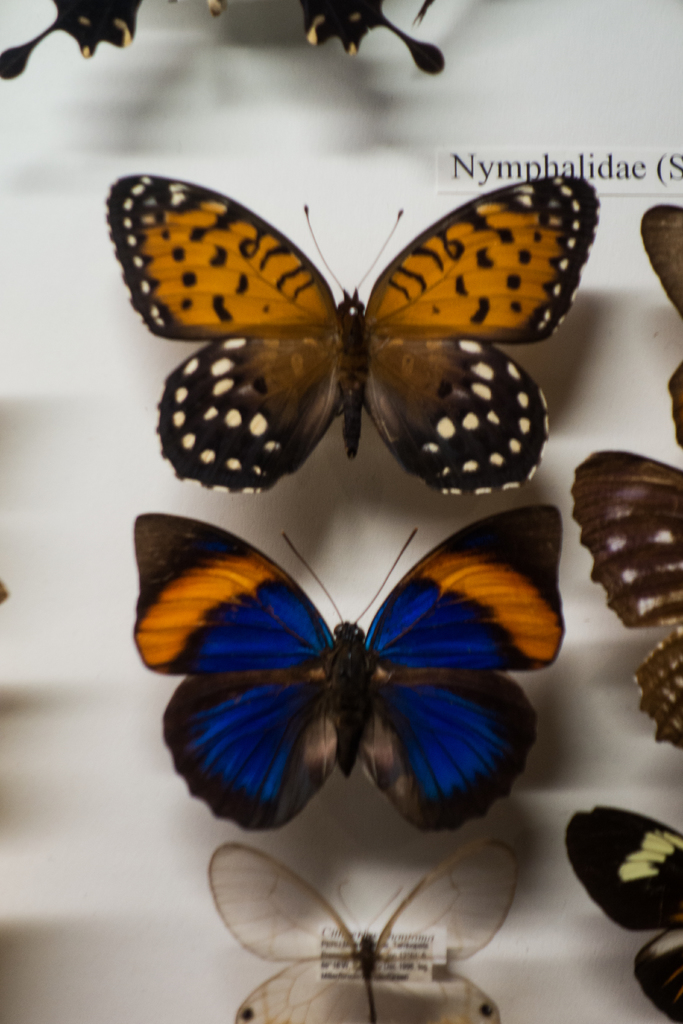Butterfly: (90, 167, 599, 494), (123, 499, 590, 838)
